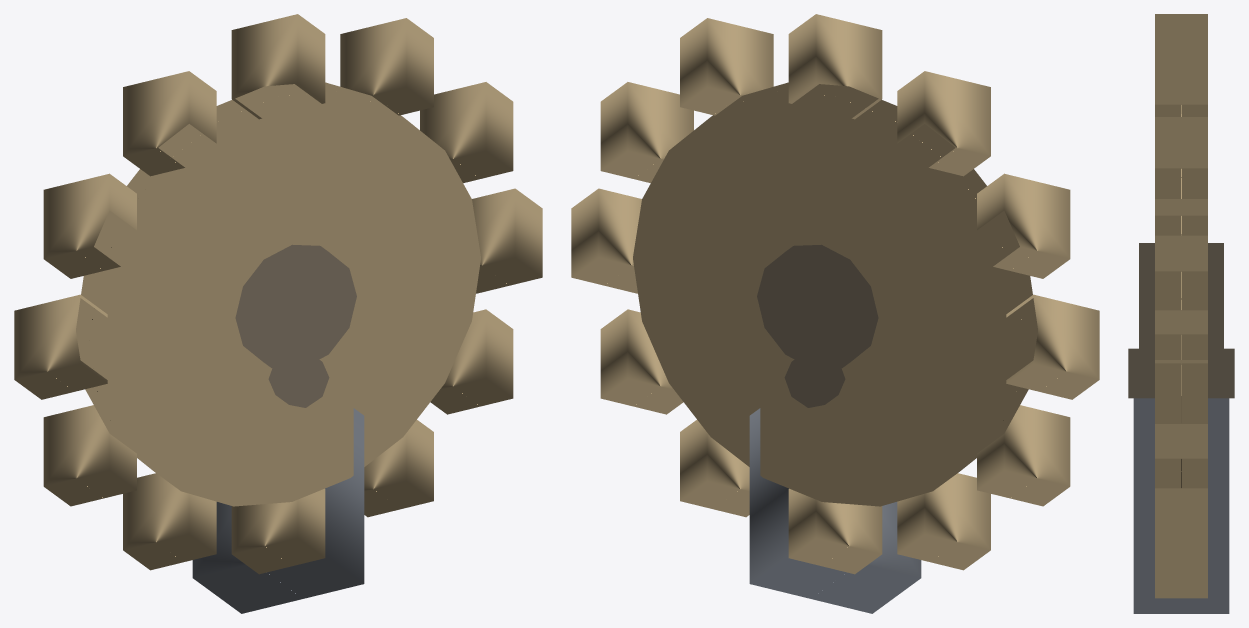
The model's file is bg_gear.glb.
The picture shows the model from 3 angles, left to right: view 1: azimuth 30°, elevation 25°; view 2: azimuth 150°, elevation 25°; view 3: azimuth 270°, elevation 25°; orthographic projection. The views are drawn at different scales.
Size of the model in its own units: 106 by 111 by 20.
